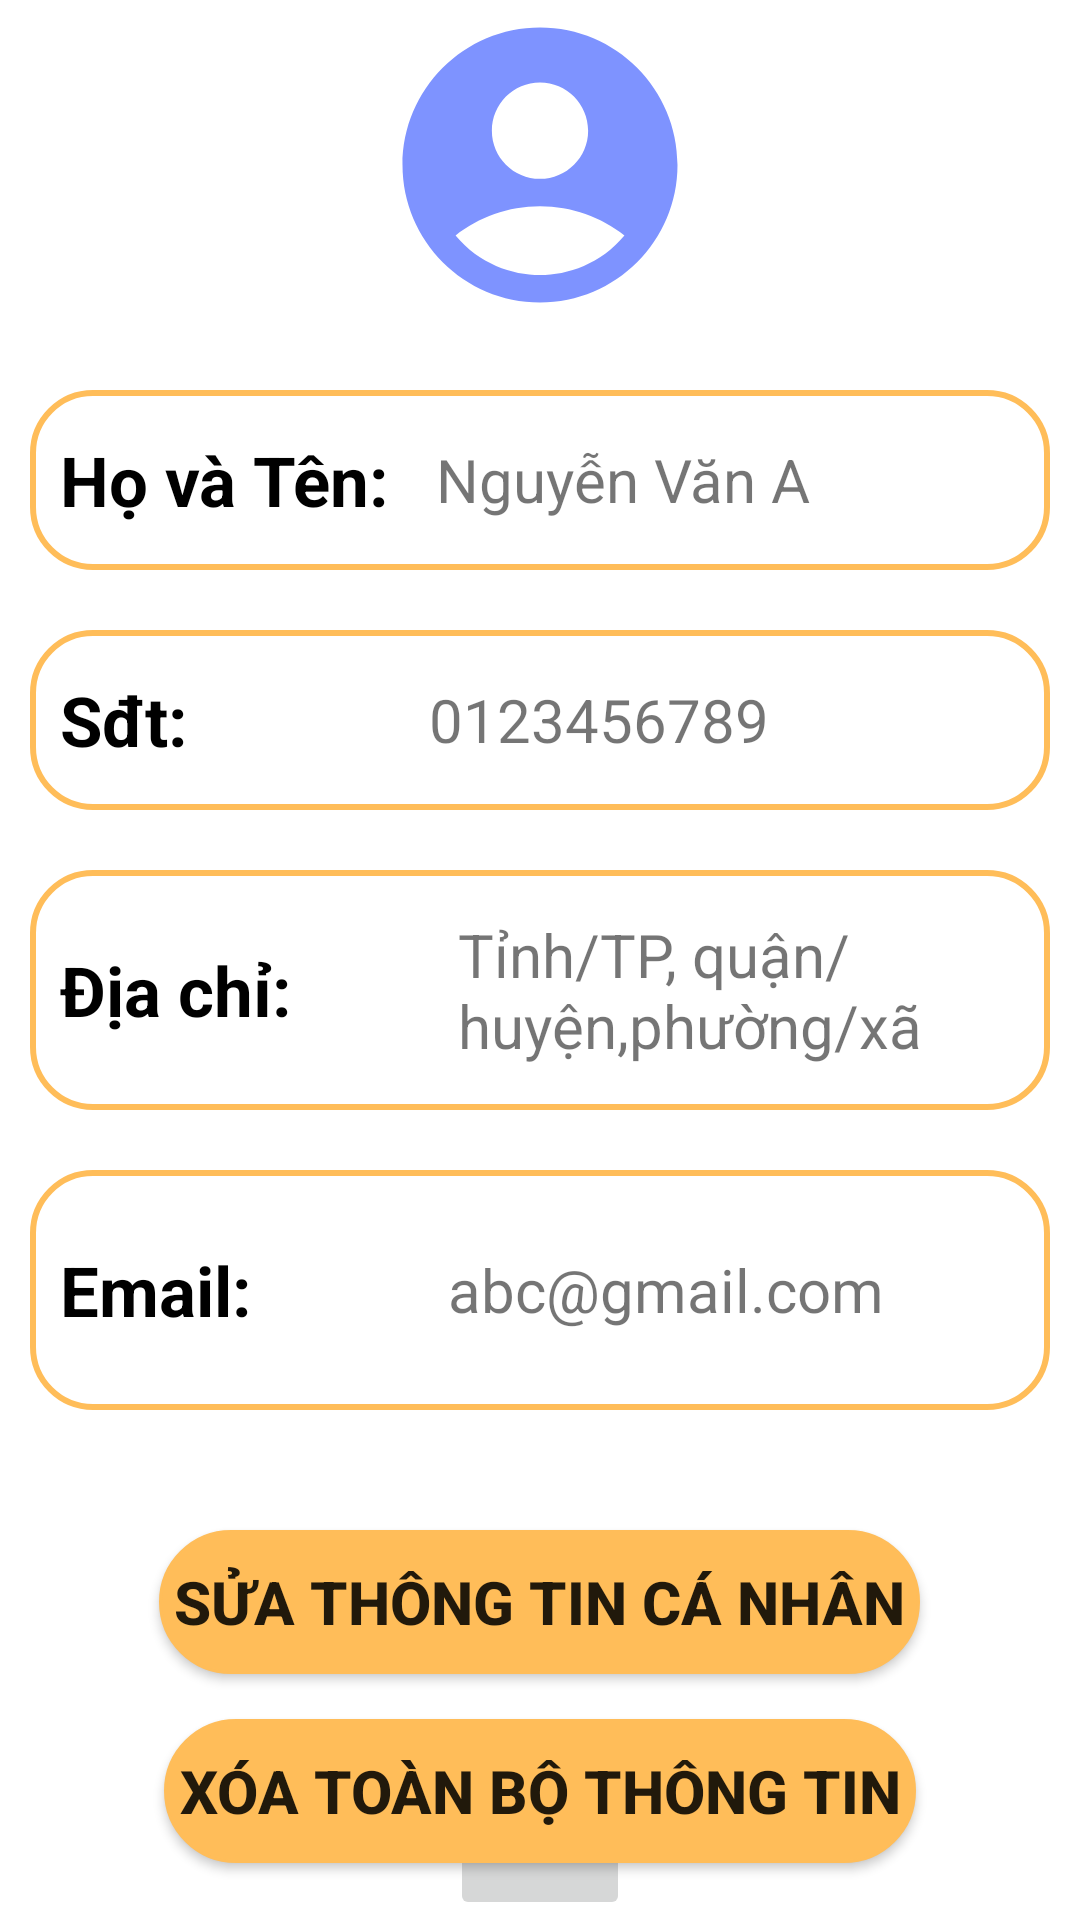

Icon click points for this 1080px×1920px phone screenshot, format point (x, y):
account circle: point (540, 165)
